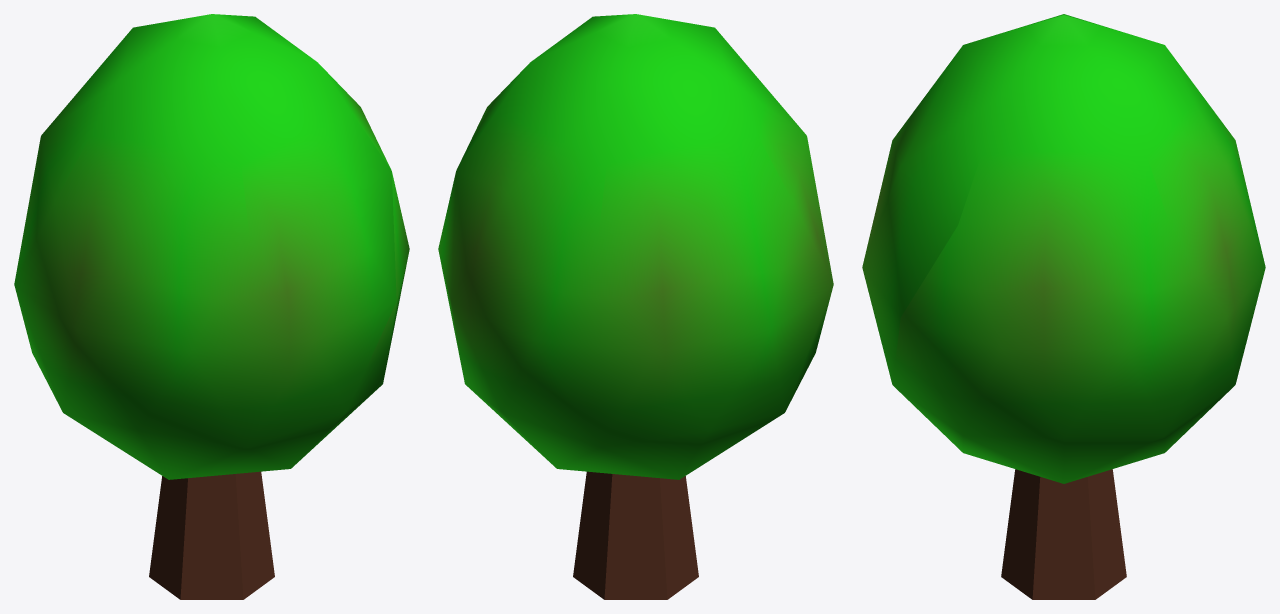
File: Cay 1.004.fbx
3 renders of one model, left to right at view 1: azimuth 30°, elevation 25°; view 2: azimuth 150°, elevation 25°; view 3: azimuth 270°, elevation 25°, orthographic.
Visible parts, largest first — view 1: Cay 1.004; view 2: Cay 1.004; view 3: Cay 1.004.
Boxes of the visible parts, bbox=[...] form: Cay 1.004: bbox=[14, 14, 409, 599]; Cay 1.004: bbox=[438, 14, 833, 599]; Cay 1.004: bbox=[862, 14, 1265, 599].
Size of the model in its own units: 593 by 958 by 624.
